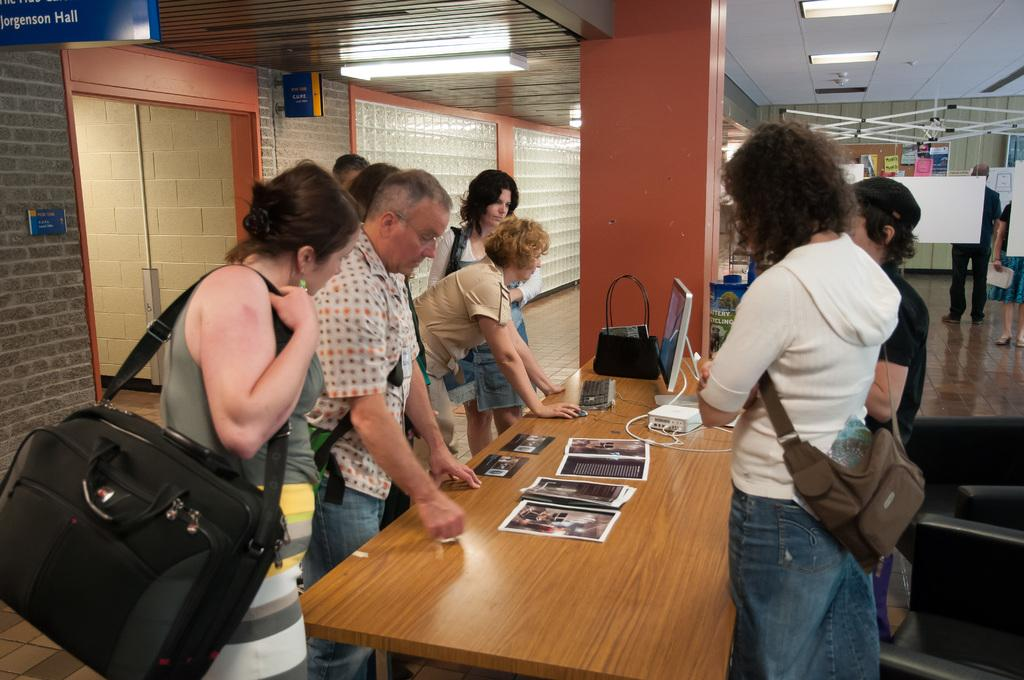Luggage-and-bags: (10, 399, 292, 677), (756, 339, 929, 574)
